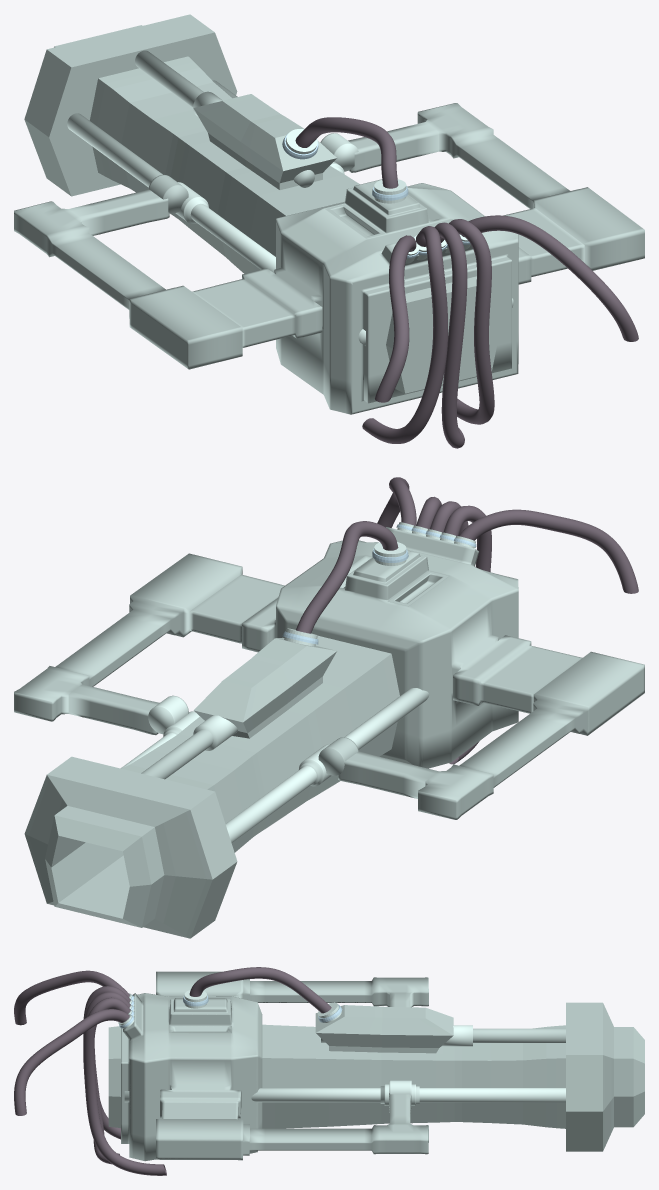
Rendered from SpaceSwift-Gun_Laser.fbx.
3 renders of one model, top to bottom at view 1: azimuth 30°, elevation 25°; view 2: azimuth 150°, elevation 25°; view 3: azimuth 270°, elevation 25°, orthographic. The views are drawn at different scales.
Visible parts, largest first — view 1: Gun_Laser; view 2: Gun_Laser; view 3: Gun_Laser.
Boxes of the visible parts, bbox=[...] form: Gun_Laser: bbox=[14, 14, 644, 448]; Gun_Laser: bbox=[14, 477, 644, 938]; Gun_Laser: bbox=[14, 967, 644, 1175].
Bounding box in the file's own units: 71.71 × 38.74 × 114.
